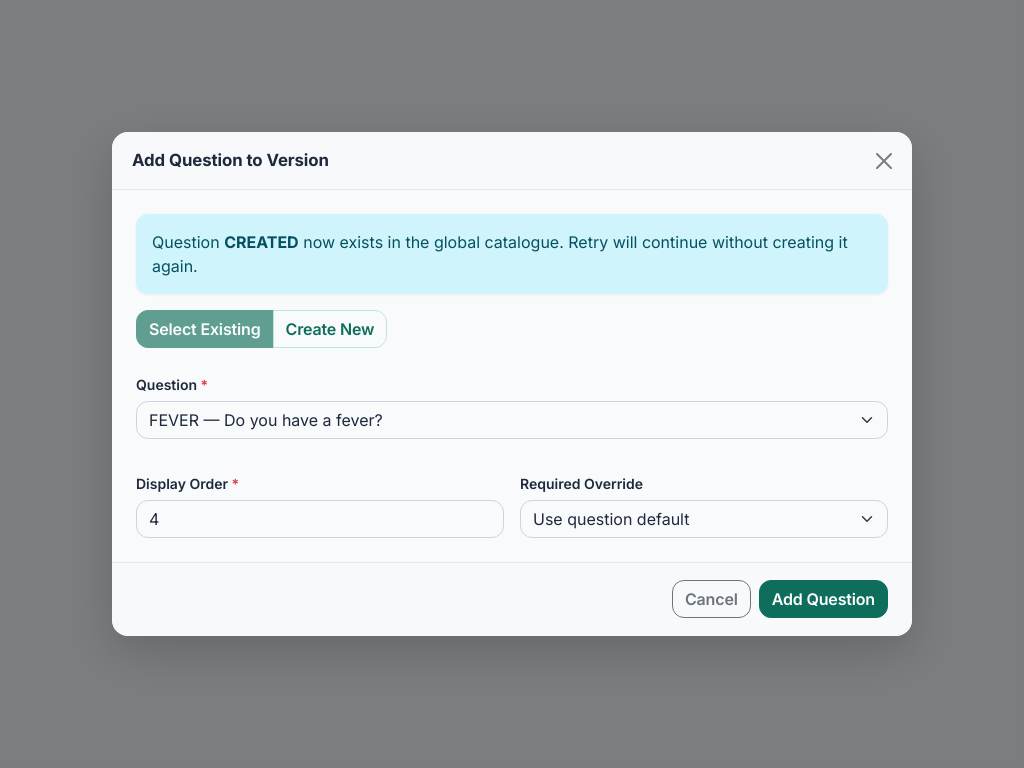
Test: AddQuestionnaireItemModal › shows saved progress and prevents changing already-created metadata
This screenshot has width=1024, height=768.
Click the button "Create New": (330, 329) [272,310,387,348]
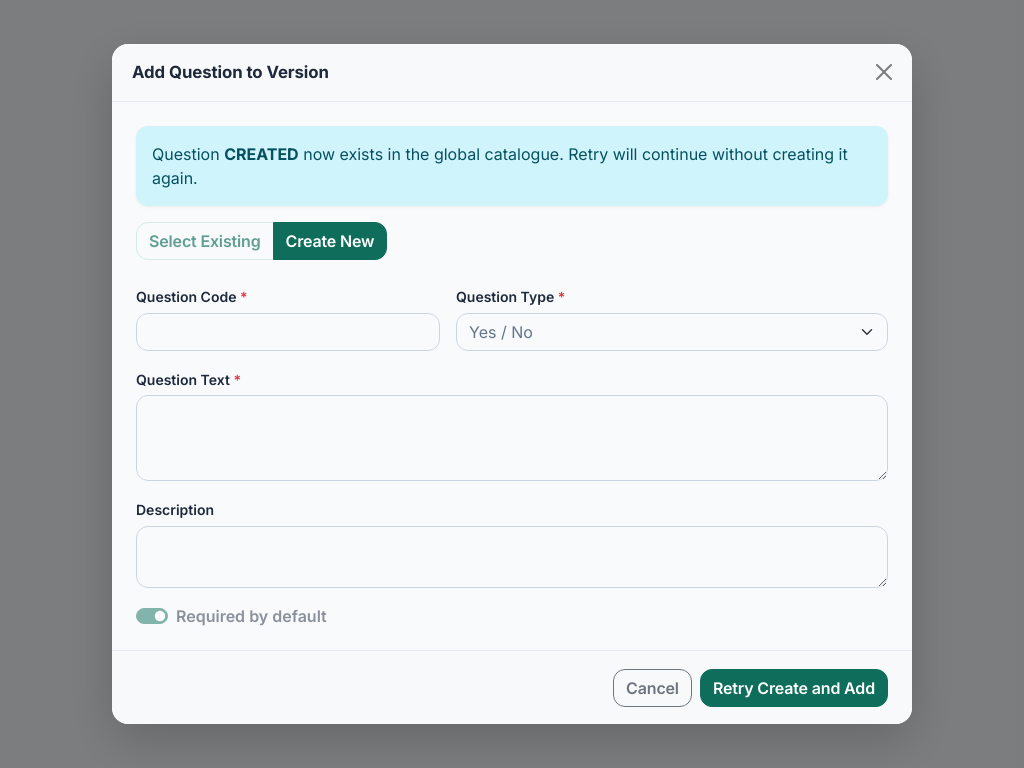
Expected: the text "now exists in the global catalogue" is shown, [152,144,848,188]
Expected: the element labelled "Question Code" is disabled, [136,284,888,630]
